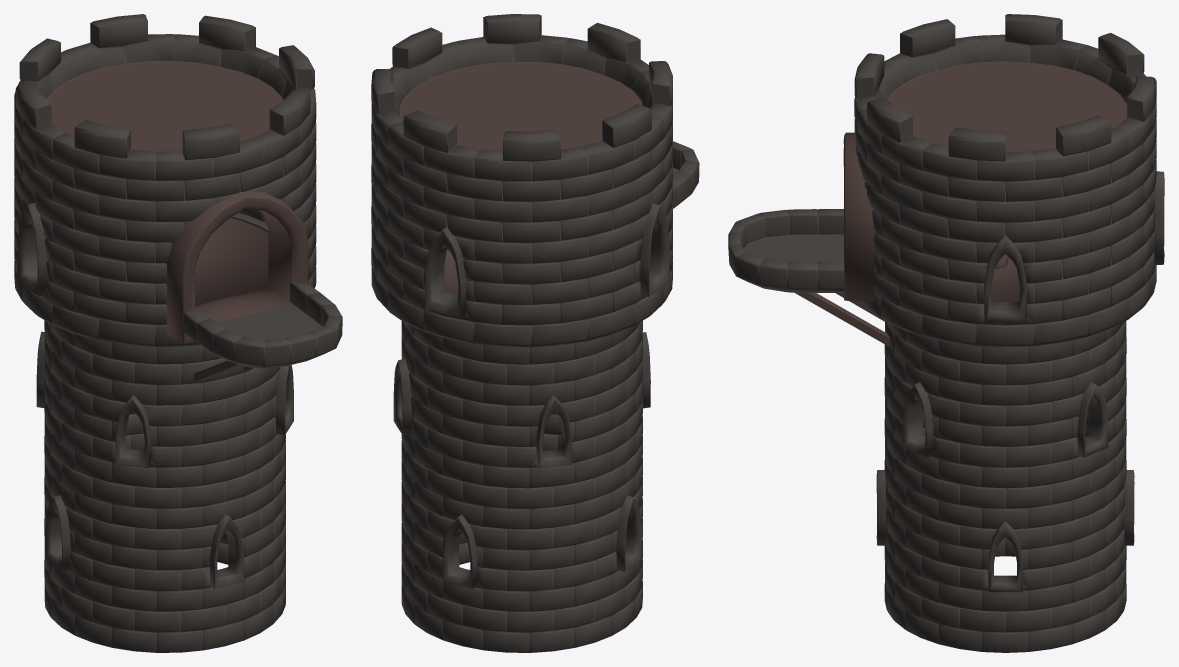
The model's file is Tower_with_Perch.fbx.
3 views of the same model, side by side, from view 1: azimuth 30°, elevation 25°; view 2: azimuth 150°, elevation 25°; view 3: azimuth 270°, elevation 25° (orthographic).
Parts seen in each view (by area): view 1: Tower Room.001, Tower Base.001, Window Frames.002, Balcony, Window Frames.003, Supports; view 2: Tower Room.001, Tower Base.001, Window Frames.003, Window Frames.002, Balcony; view 3: Tower Room.001, Tower Base.001, Balcony, Window Frames.002, Window Frames.003, Supports.
Part boxes in pixels (x1=…): Tower Room.001: x1=14, y1=14, x2=316, y2=346; Tower Base.001: x1=44, y1=320, x2=285, y2=652; Window Frames.002: x1=17, y1=191, x2=308, y2=343; Balcony: x1=183, y1=282, x2=342, y2=368; Window Frames.003: x1=36, y1=331, x2=293, y2=588; Supports: x1=194, y1=360, x2=252, y2=382; Tower Room.001: x1=371, y1=14, x2=672, y2=347; Tower Base.001: x1=401, y1=320, x2=642, y2=652; Window Frames.003: x1=393, y1=332, x2=650, y2=588; Window Frames.002: x1=425, y1=203, x2=669, y2=317; Balcony: x1=673, y1=141, x2=699, y2=208; Tower Room.001: x1=854, y1=14, x2=1156, y2=347; Tower Base.001: x1=884, y1=321, x2=1126, y2=652; Balcony: x1=728, y1=209, x2=844, y2=292; Window Frames.002: x1=843, y1=132, x2=1164, y2=322; Window Frames.003: x1=876, y1=382, x2=1134, y2=592; Supports: x1=794, y1=292, x2=889, y2=346.
Size of the model in its own units: 16.23 by 22.28 by 29.71.
